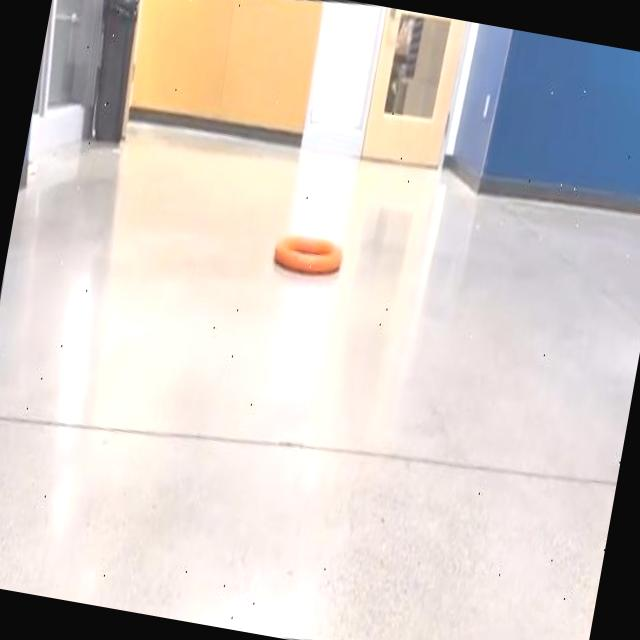note: (274, 233, 342, 272)
